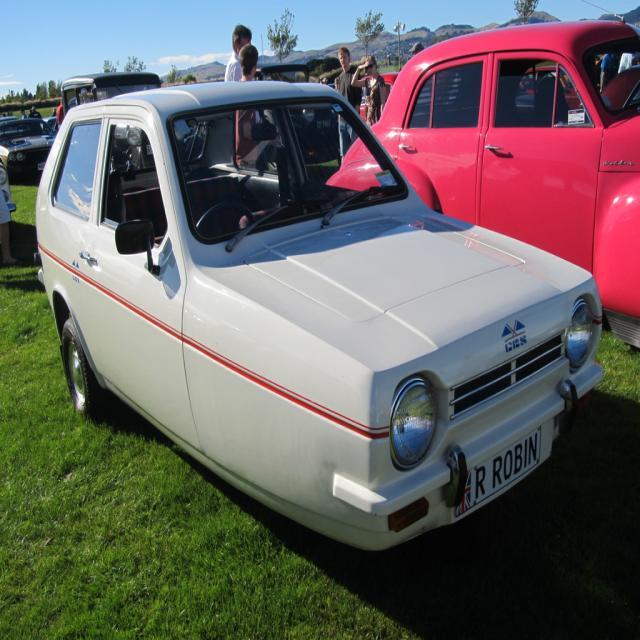car: (28, 78, 575, 564)
